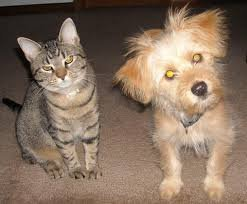cat: (10, 16, 121, 178)
dog: (116, 5, 236, 192)
